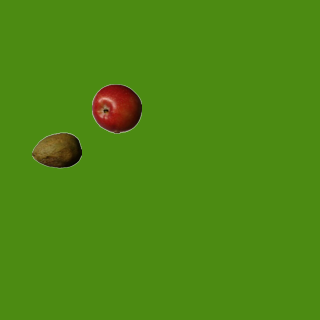Apple Braeburn: (91, 83, 141, 133)
Papaya: (31, 125, 81, 175)
